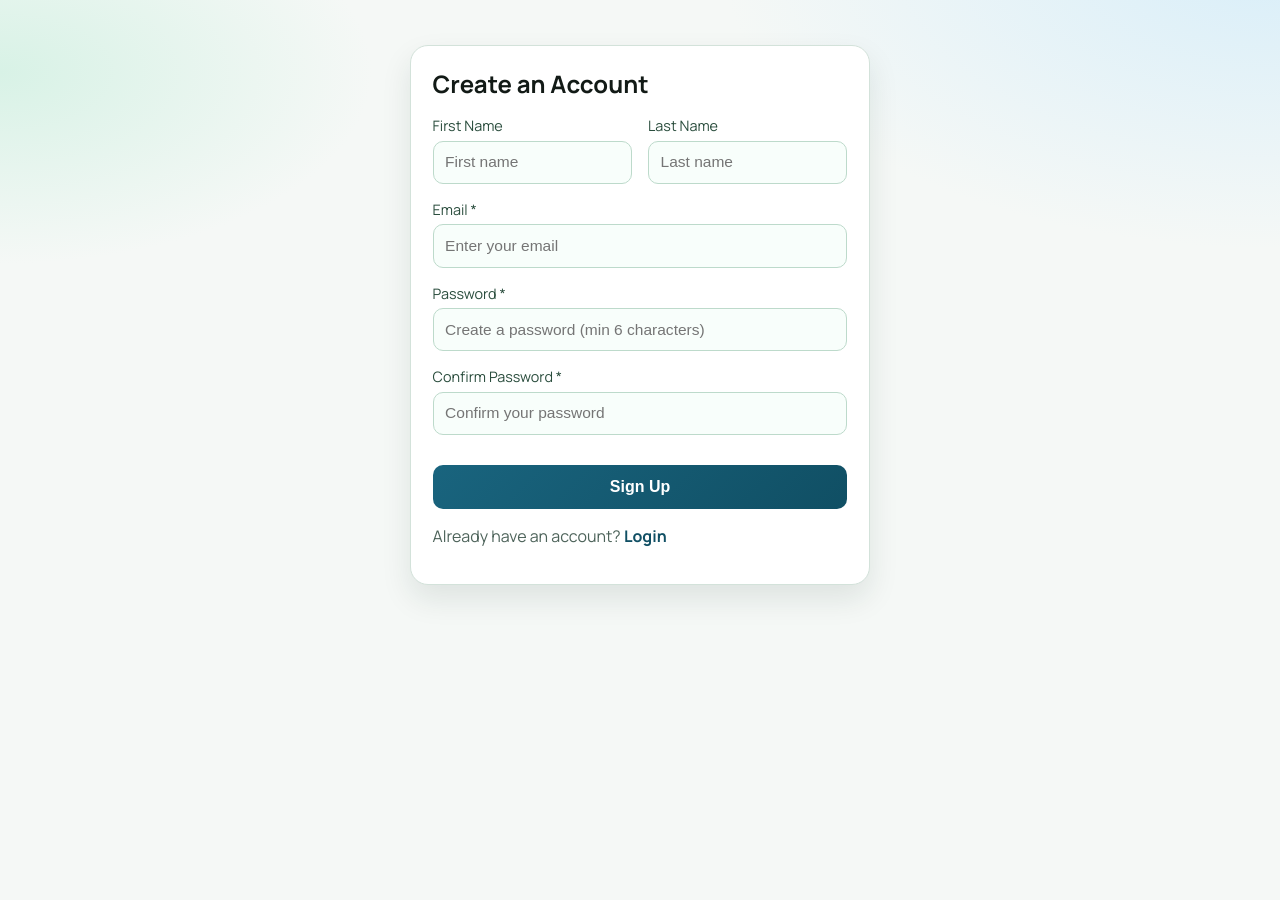
Integration Tests - Signup Flow › should show error when email already exists
In the field with test id "email-input": [640, 246] box [433,224,847,268], type "john@example.com"
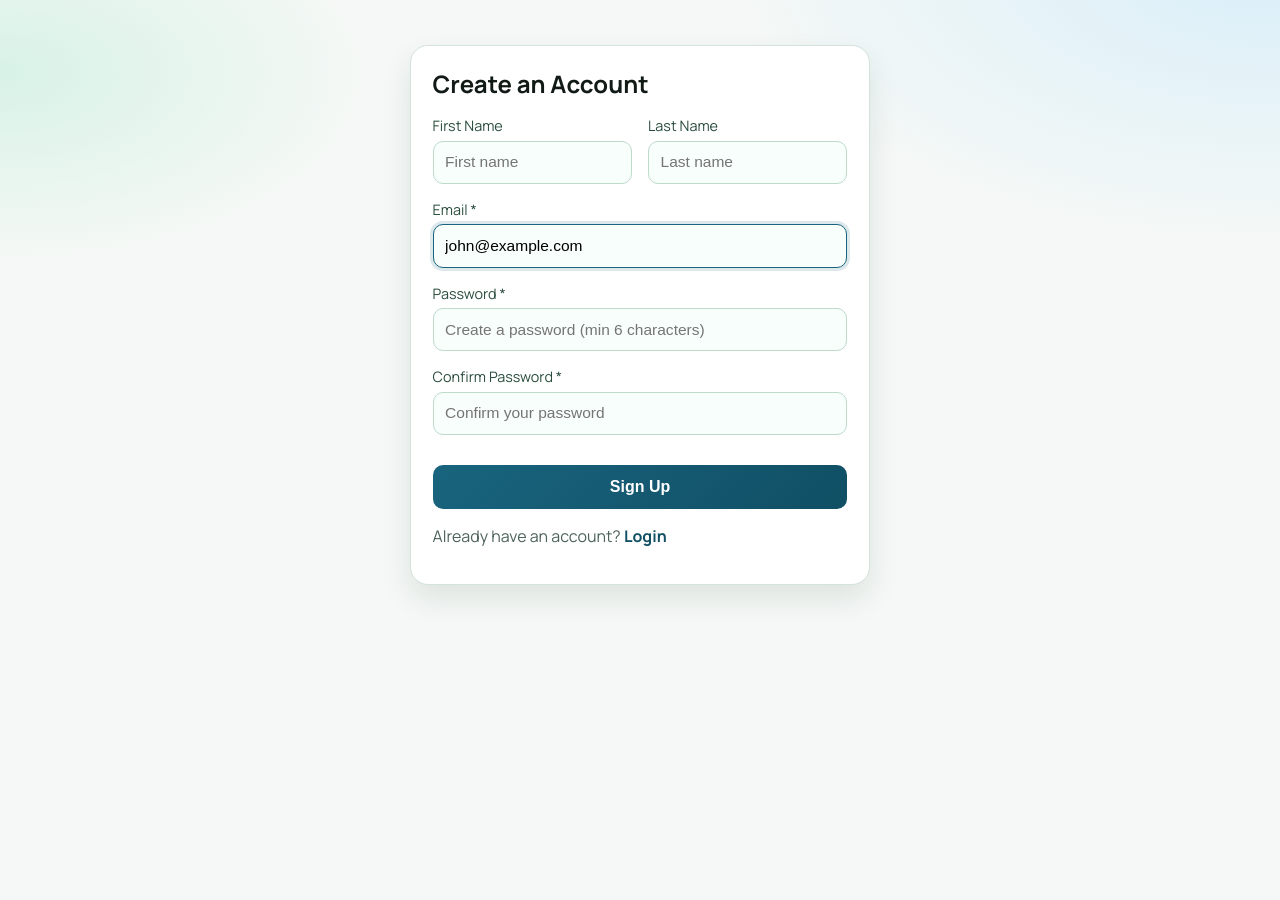
In the password field with test id "password-input": [640, 330] box [433,308,847,351], type "password123"
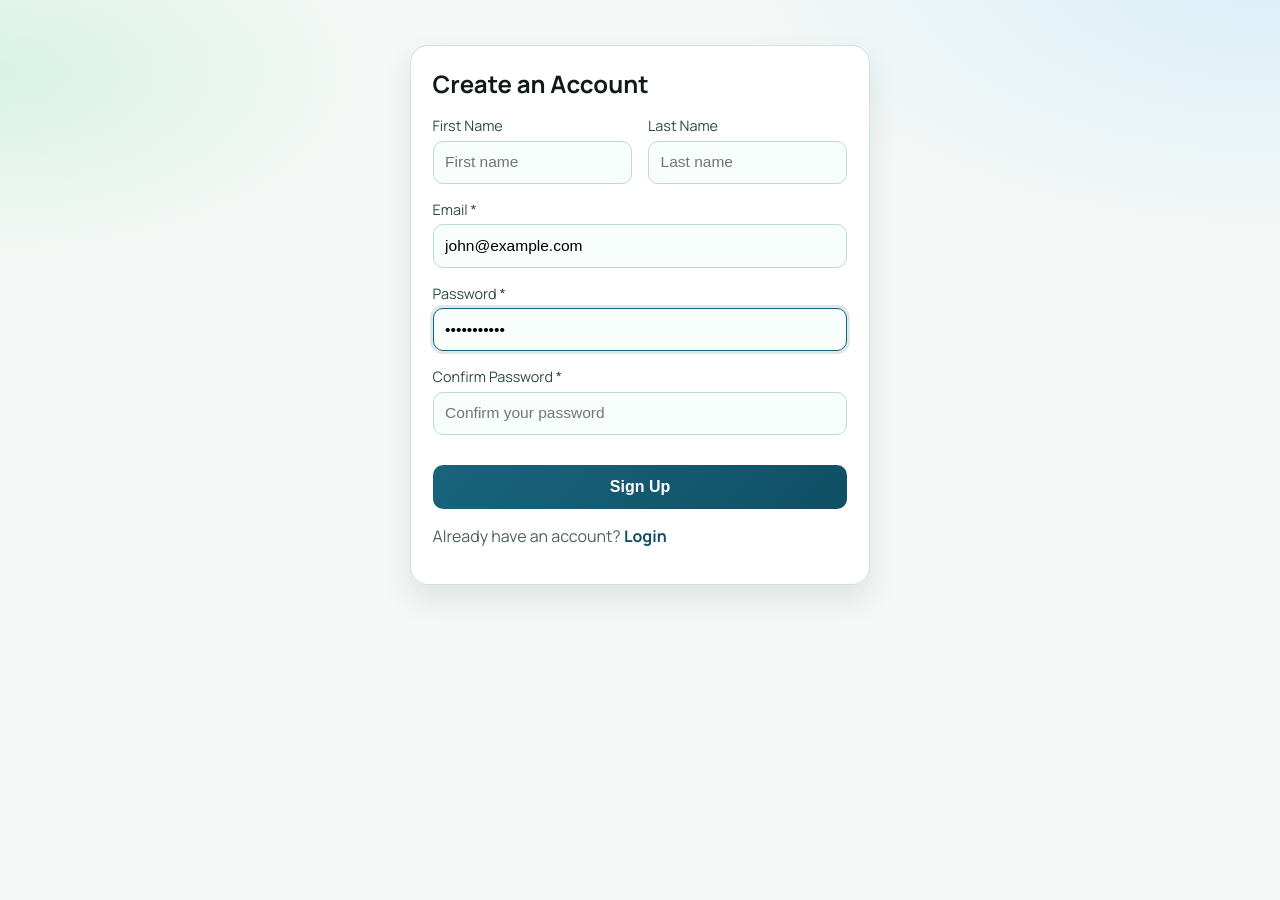
In the password field with test id "confirm-password-input": [640, 413] box [433,392,847,435], type "password123"
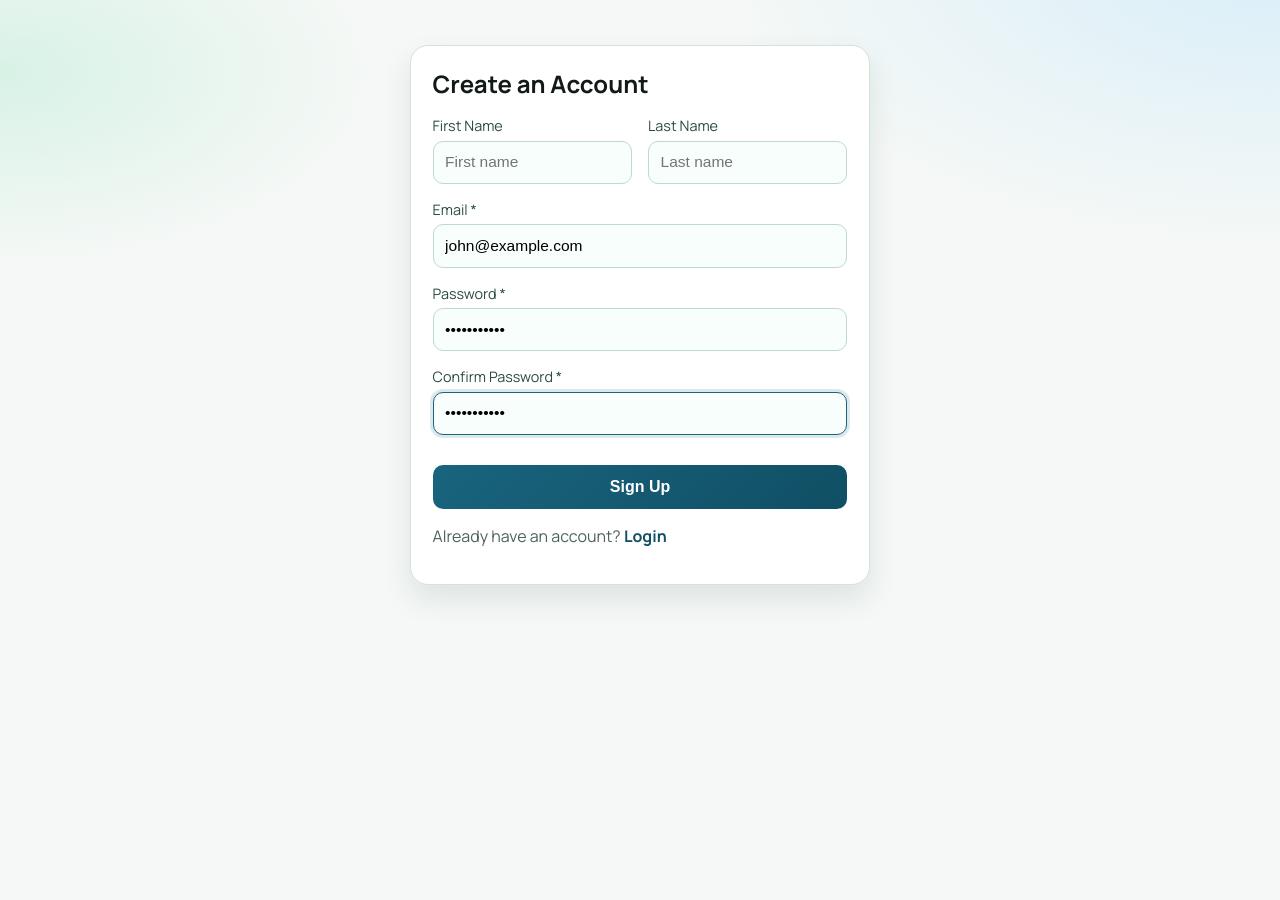
Click the button with test id "signup-button": [640, 487] box [433,465,847,509]
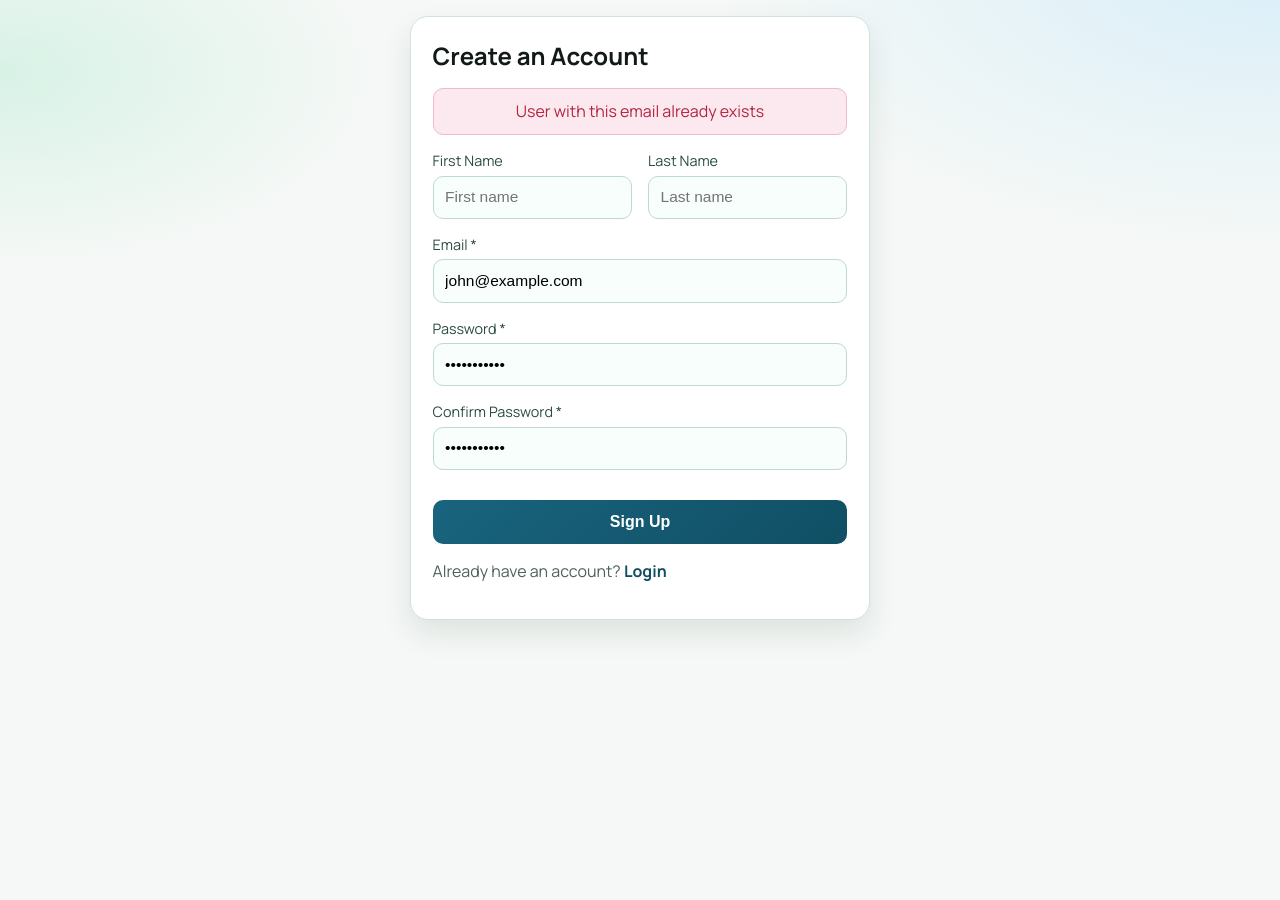
Expected: the message reads "User with this email already exists", [516,100,764,122]
